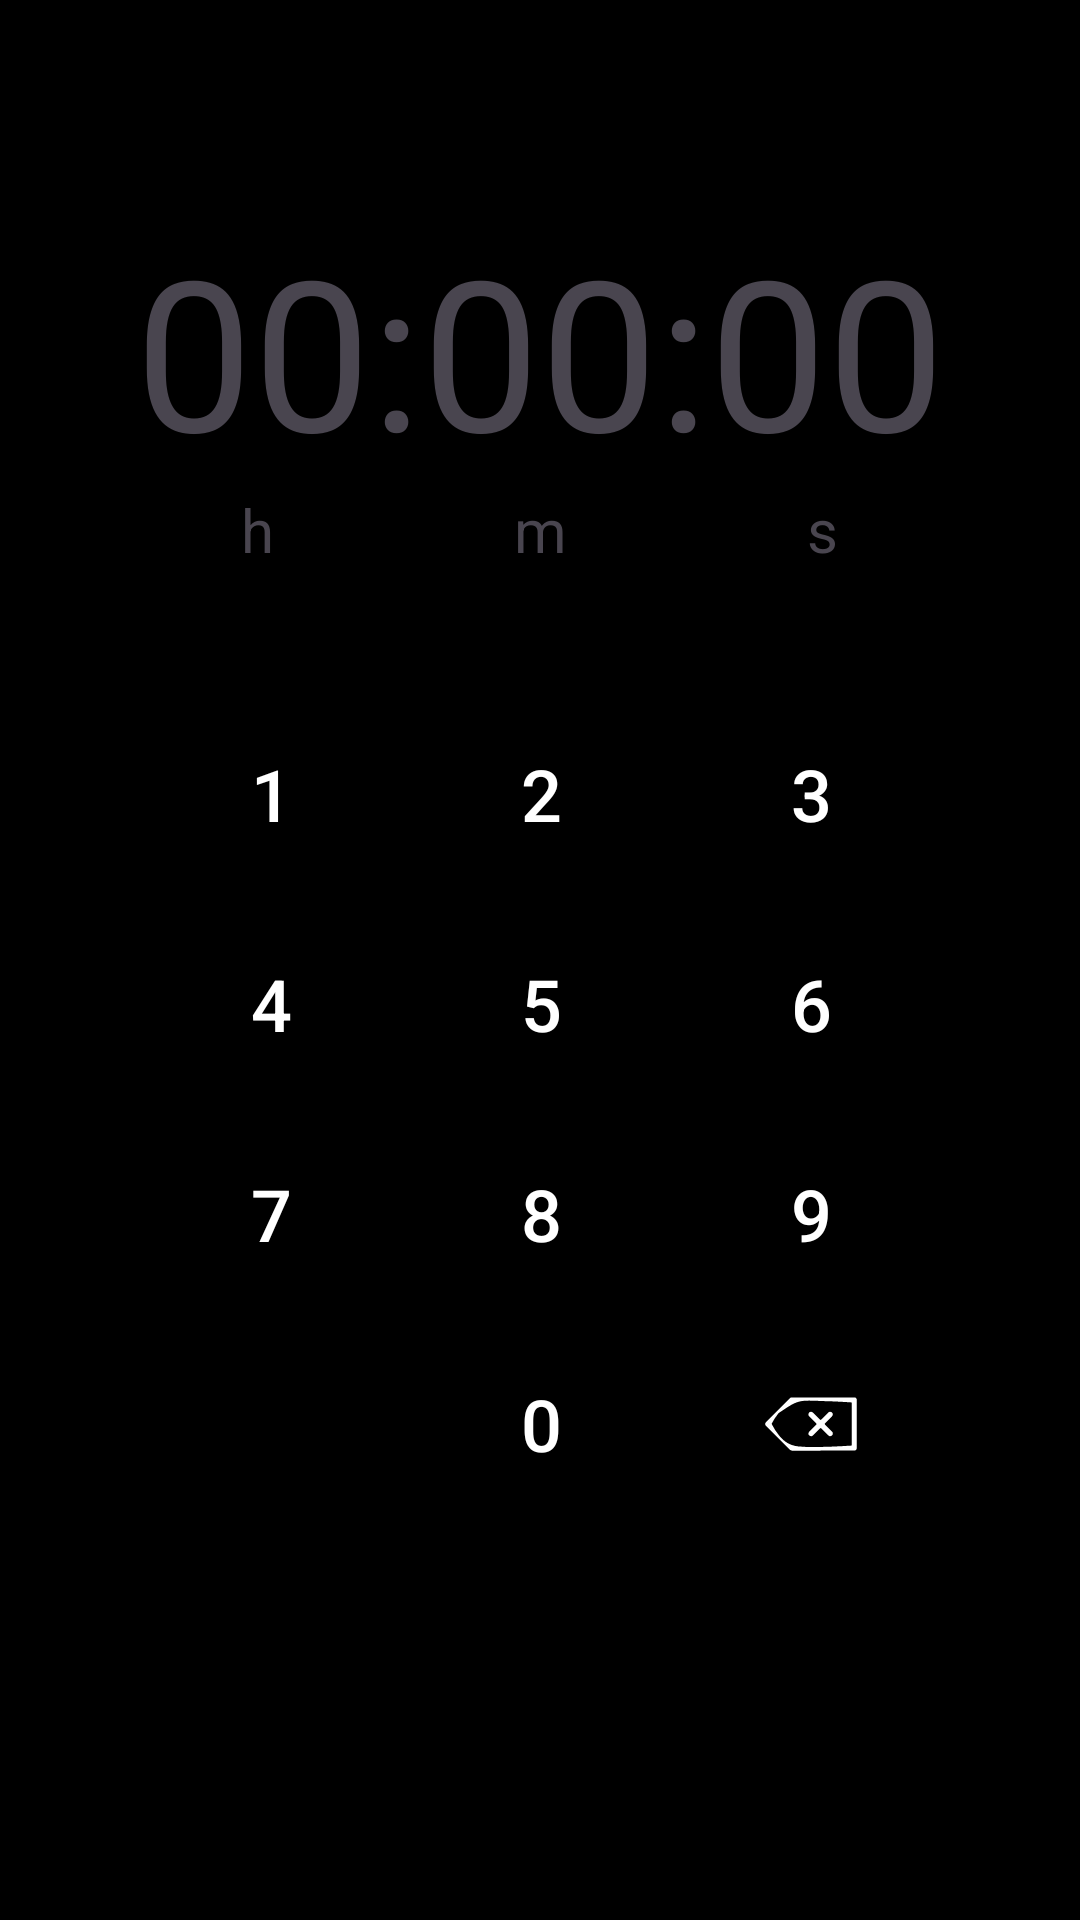

Where icons sit on this 1080 x 1920 app screen, as (x1, y1, x2, y2):
Clear: (765, 1397, 857, 1451)
